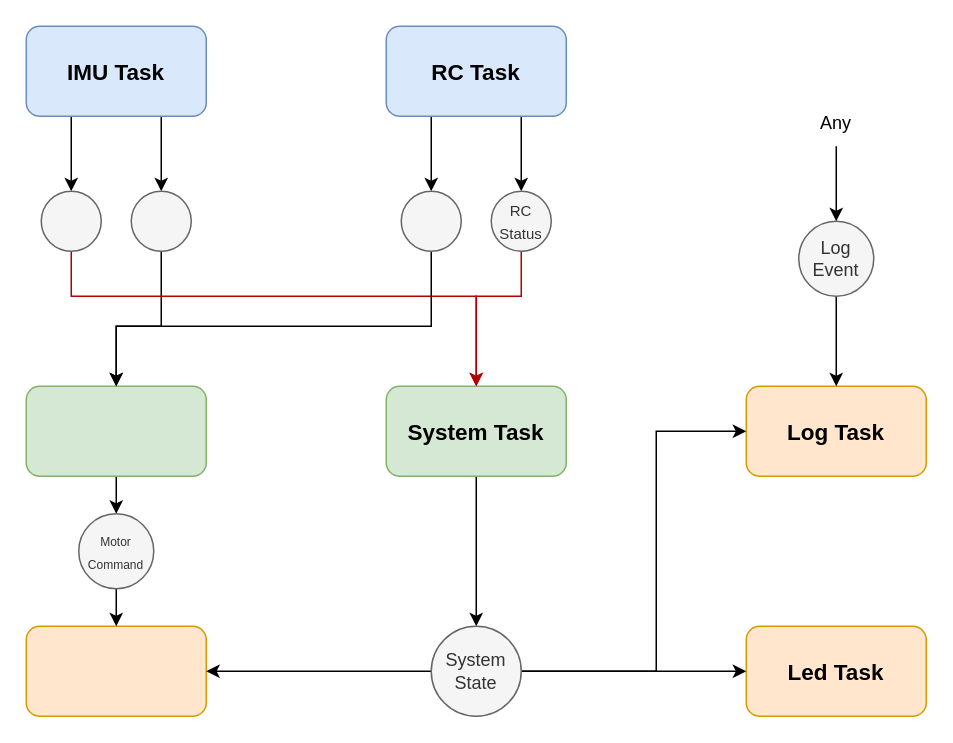
Some shapes in this 953 by 743 pixel diagram are drawn without their labels. The shapes that lost their labels are listed below. From the top down, each one's box as (x1, y1, x2, y2) in pixels, then its label:
(40, 190, 101, 251): IMU Status
(130, 190, 191, 251): IMU Data
(400, 190, 461, 251): RC Data
(25, 385, 206, 476): Control Task
(25, 625, 206, 716): Motor Task
